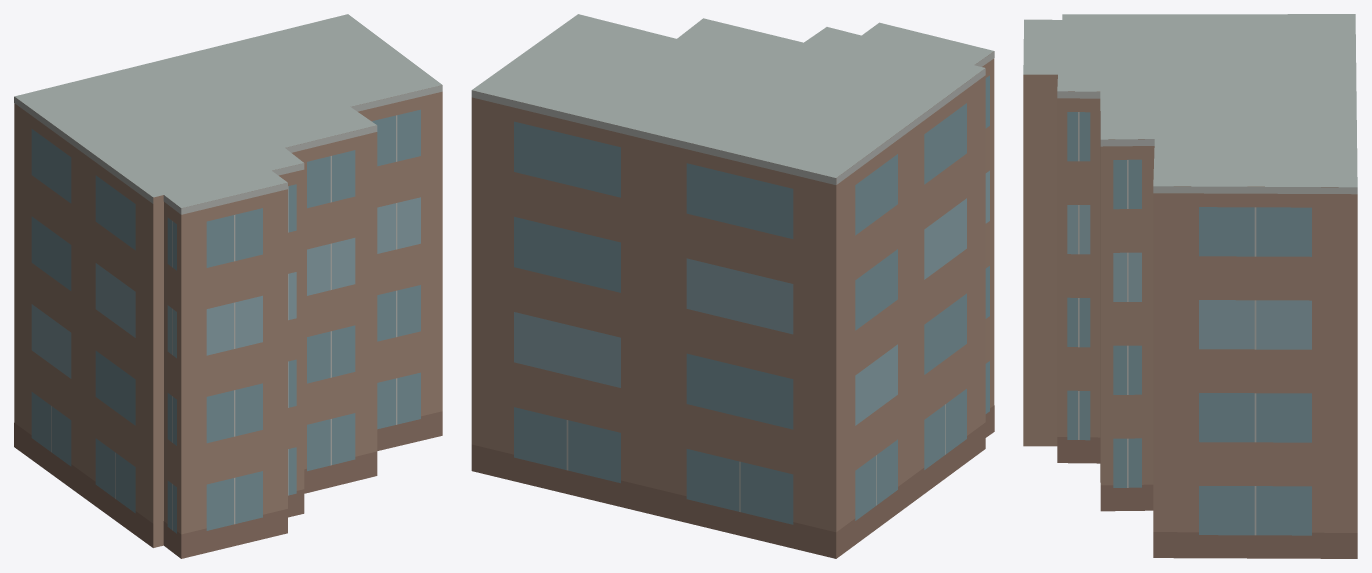
File: survey-upis-32779284.glb
3 renders of one model, left to right at view 1: azimuth 30°, elevation 25°; view 2: azimuth 150°, elevation 25°; view 3: azimuth 270°, elevation 25°, orthographic. The views are drawn at different scales.
Visible parts, largest first — view 1: survey-upis-32779284.tmp; view 2: survey-upis-32779284.tmp; view 3: survey-upis-32779284.tmp.
Part boxes in pixels (<box>): survey-upis-32779284.tmp: <box>14,14,442,558</box>; survey-upis-32779284.tmp: <box>471,14,994,558</box>; survey-upis-32779284.tmp: <box>1023,14,1357,558</box>.
Bounding box in the file's own units: 13 × 13 × 10.61.
